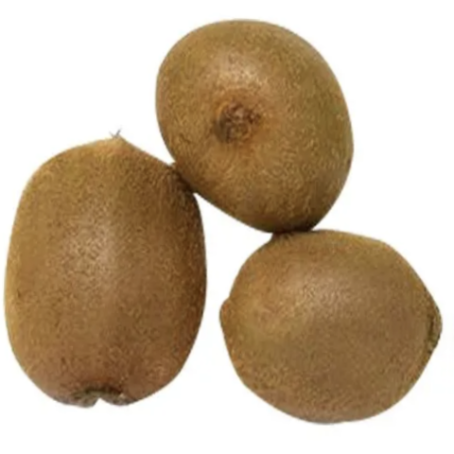kiwi: (0, 110, 224, 439), (133, 0, 382, 257), (202, 225, 445, 454)
